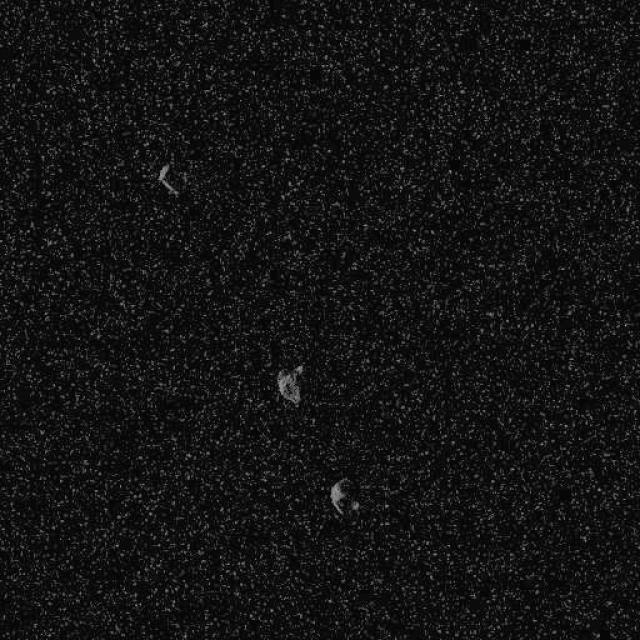D2: (275, 362, 305, 407), (328, 475, 358, 517), (156, 162, 179, 196)
